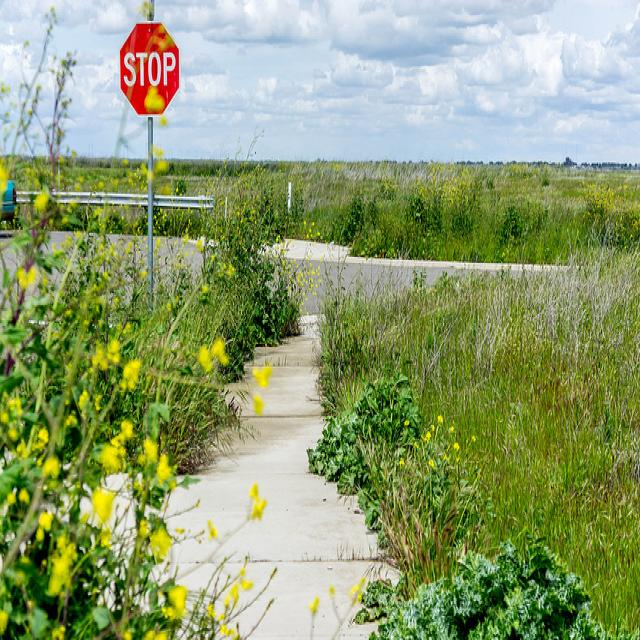Vehicle: (0, 181, 16, 221)
